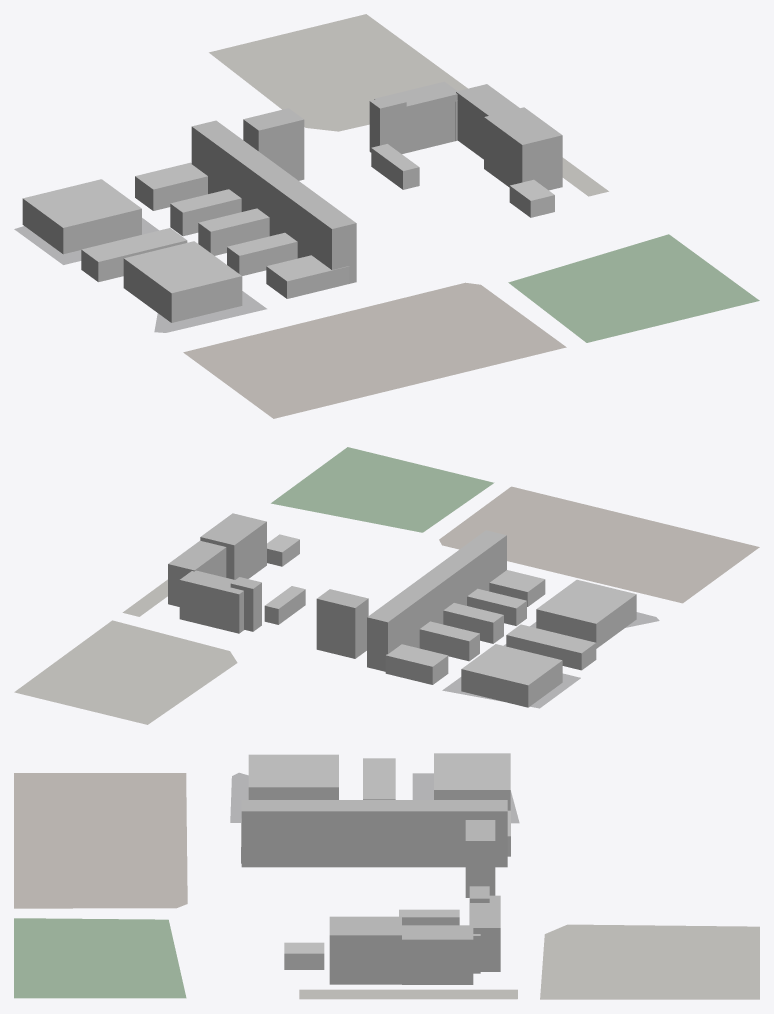
File: 97_102_mid.glb
3 renders of one model, top to bottom at view 1: azimuth 30°, elevation 25°; view 2: azimuth 150°, elevation 25°; view 3: azimuth 270°, elevation 25°, orthographic. The views are drawn at different scales.
Size of the model in its own units: 357 by 42.9 by 500.
